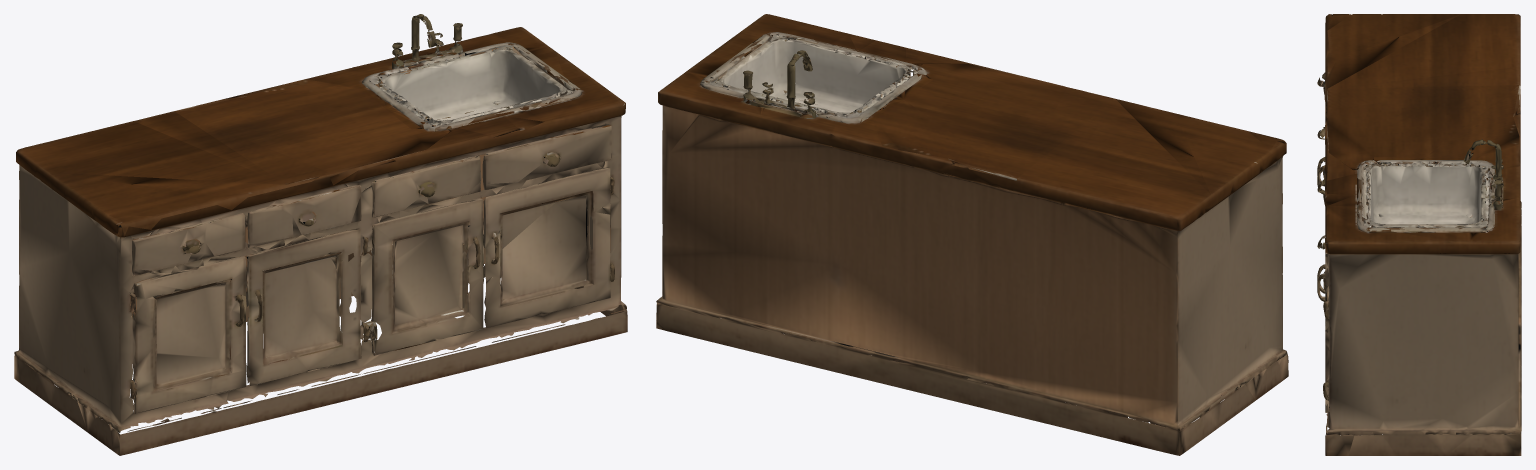
The model's file is kitchen-counter.glb.
3 views of the same model, side by side, from view 1: azimuth 30°, elevation 25°; view 2: azimuth 150°, elevation 25°; view 3: azimuth 270°, elevation 25° (orthographic). The views are drawn at different scales.
Visible parts, largest first — view 1: LOD0; view 2: LOD0; view 3: LOD0.
Part boxes in pixels (left/top/right/bottom): LOD0: left=14, top=14, right=627, bottom=455; LOD0: left=656, top=14, right=1288, bottom=455; LOD0: left=1317, top=14, right=1521, bottom=455.
Size of the model in its own units: 1.73 by 0.9199 by 0.65.
1 material, 1 textured.
